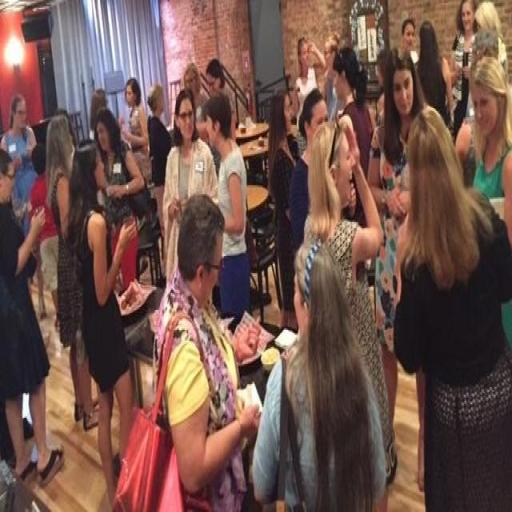person: (395, 108, 511, 510), (253, 246, 385, 510), (305, 118, 396, 482), (157, 195, 259, 511), (68, 144, 136, 502), (0, 150, 63, 485), (369, 50, 423, 424), (47, 116, 97, 430), (163, 90, 217, 277), (206, 95, 249, 323), (471, 58, 511, 242), (95, 108, 143, 251), (268, 93, 296, 330), (289, 88, 327, 251), (30, 144, 58, 326), (333, 47, 372, 177), (0, 95, 36, 234), (293, 38, 325, 155), (417, 22, 453, 124), (148, 84, 171, 239), (452, 0, 477, 138), (120, 78, 151, 181), (475, 0, 507, 77), (206, 59, 236, 140), (184, 64, 207, 140), (324, 33, 343, 121), (456, 112, 475, 186), (375, 48, 388, 126), (89, 88, 107, 140), (400, 17, 418, 64)
